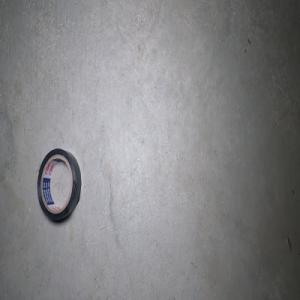Tape: (36, 148, 81, 223)
